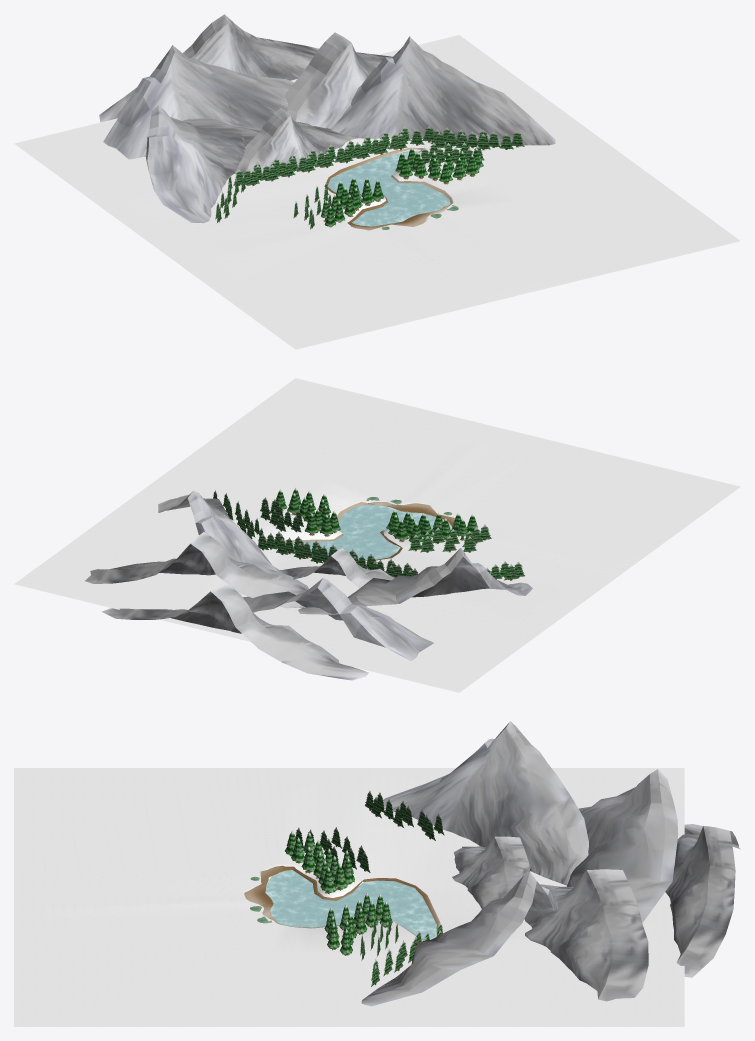
The model's file is 319_bg_lake.fbx.
3 renders of one model, top to bottom at view 1: azimuth 30°, elevation 25°; view 2: azimuth 150°, elevation 25°; view 3: azimuth 270°, elevation 25°, orthographic. The views are drawn at different scales.
Parts seen in each view (by area): view 1: ground, _bg_grassC:polySurface1, _bg_grassC:polySurface17, _bg_grassC:polySurface18, _bg_grassC:polySurface19, _bg_grassC:polySurface20, lake, _bg_grassC:polySurface16, polySurface2; view 2: ground, _bg_grassC:polySurface20, _bg_grassC:polySurface19, _bg_grassC:polySurface17, _bg_grassC:polySurface18, lake, _bg_grassC:polySurface1, _bg_grassC:polySurface16, polySurface1; view 3: ground, _bg_grassC:polySurface18, _bg_grassC:polySurface19, _bg_grassC:polySurface17, _bg_grassC:polySurface20, _bg_grassC:polySurface1, lake, _bg_grassC:polySurface16, polySurface2, polySurface1.
Boxes of the visible parts, box(x1,y1,x2,y2) form: ground: box(14, 35, 740, 349); _bg_grassC:polySurface1: box(330, 36, 555, 145); _bg_grassC:polySurface17: box(103, 45, 293, 159); _bg_grassC:polySurface18: box(146, 105, 260, 223); _bg_grassC:polySurface19: box(284, 32, 392, 128); _bg_grassC:polySurface20: box(99, 14, 318, 122); lake: box(327, 151, 450, 226); _bg_grassC:polySurface16: box(234, 108, 357, 175); polySurface2: box(324, 147, 453, 222); ground: box(14, 378, 740, 692); _bg_grassC:polySurface20: box(101, 584, 368, 680); _bg_grassC:polySurface19: box(85, 532, 308, 608); _bg_grassC:polySurface17: box(243, 578, 433, 660); _bg_grassC:polySurface18: box(298, 548, 532, 614); lake: box(285, 504, 452, 560); _bg_grassC:polySurface1: box(158, 490, 282, 572); _bg_grassC:polySurface16: box(280, 548, 394, 588); polySurface1: box(368, 502, 455, 527); ground: box(14, 768, 684, 1026); _bg_grassC:polySurface18: box(383, 721, 588, 885); _bg_grassC:polySurface19: box(524, 869, 648, 1001); _bg_grassC:polySurface17: box(567, 769, 678, 922); _bg_grassC:polySurface20: box(665, 824, 740, 977); _bg_grassC:polySurface1: box(361, 872, 558, 1006); lake: box(265, 870, 436, 939); _bg_grassC:polySurface16: box(452, 836, 529, 908); polySurface2: box(275, 868, 440, 940); polySurface1: box(244, 865, 294, 921).
Size of the model in its own units: 6380 by 1361 by 7576.
